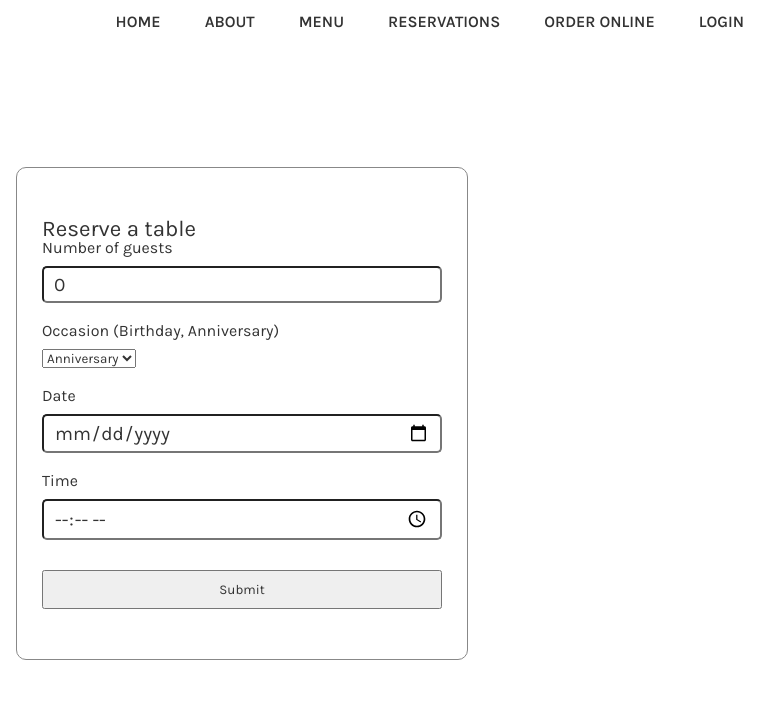
Test: Test form validation with bad values
Step 1. Click the button with test id "submit" → (242, 589), box [42,570,442,609]
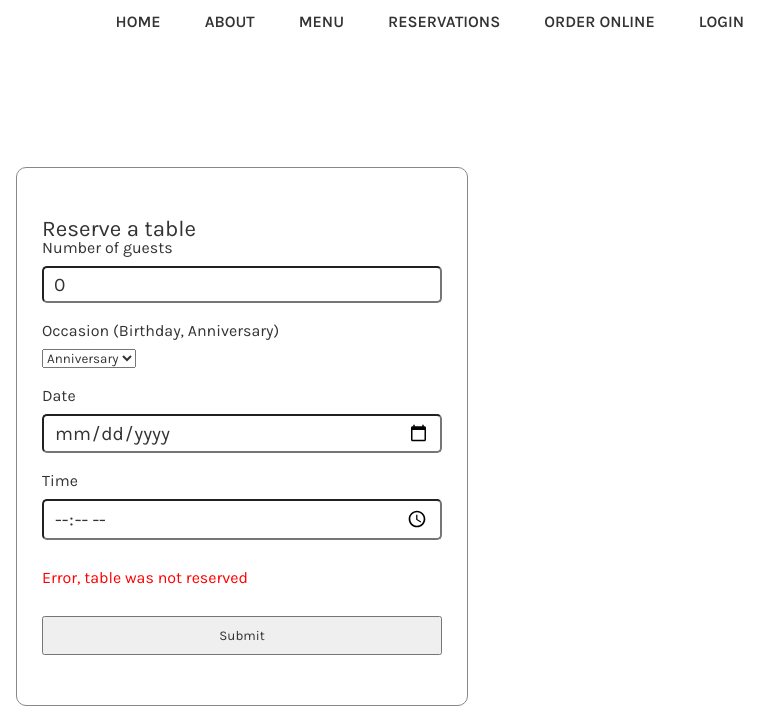
Result: the text with test id "msg" reads "Error, table was not reserved" at [42,568,248,587]
